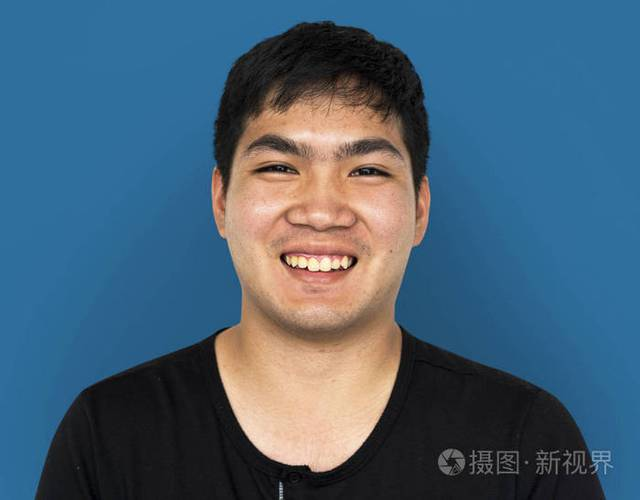no_mask: (217, 77, 432, 329)
